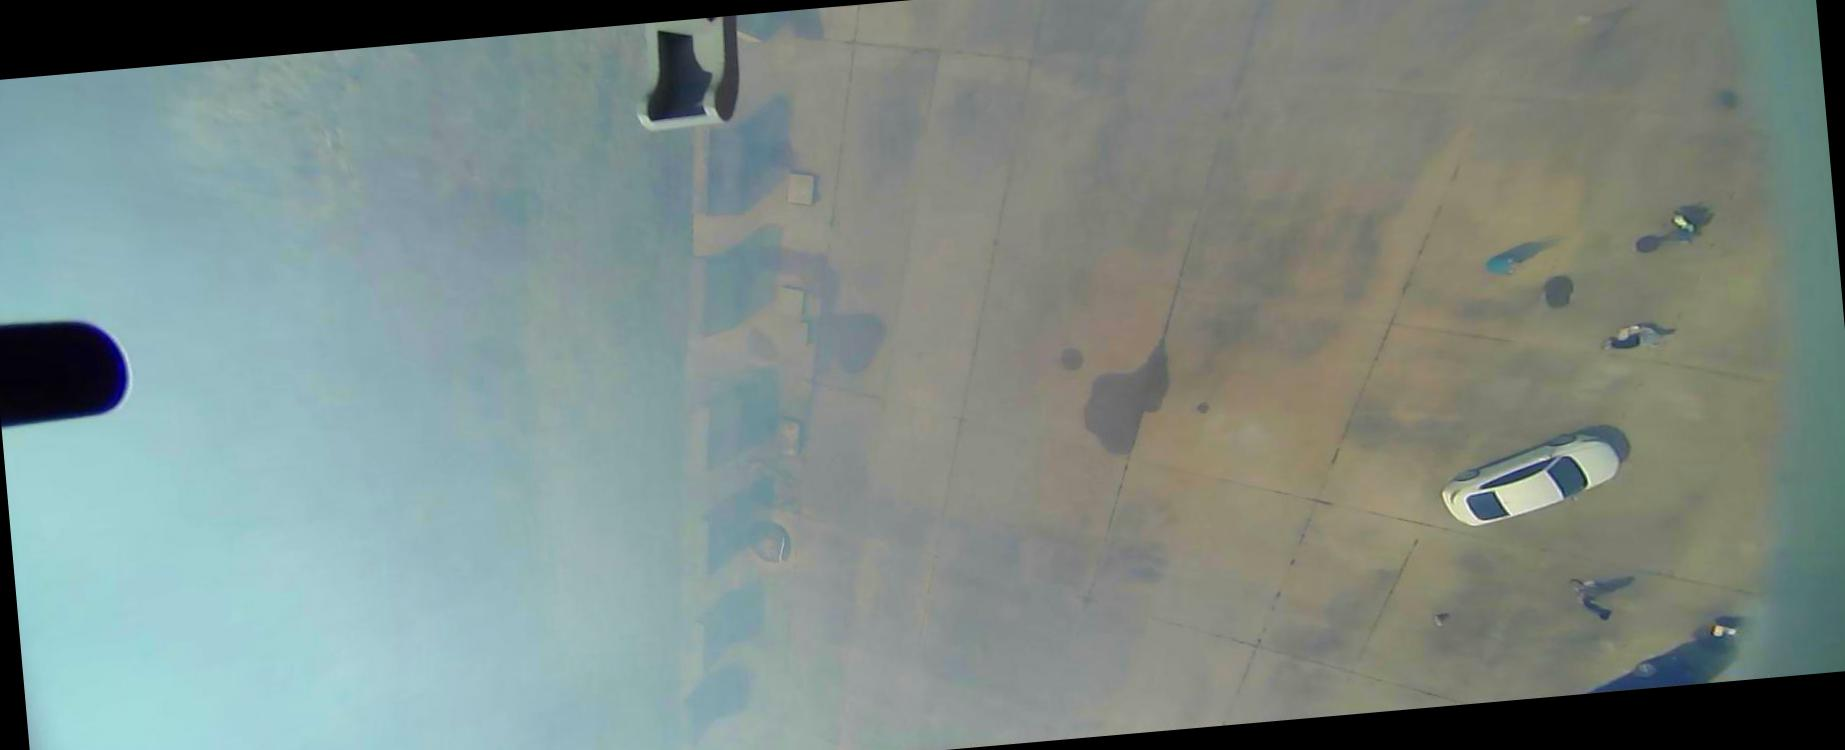vehicle: (1437, 430, 1626, 531), (1586, 650, 1710, 692)
